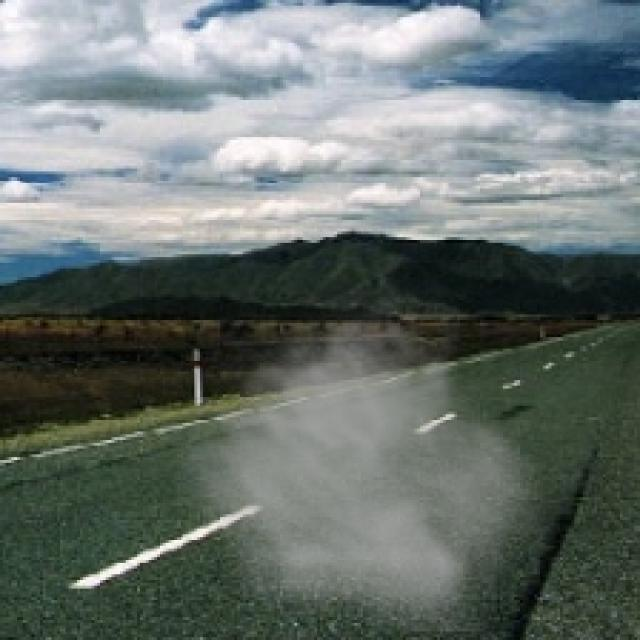smoke: (163, 280, 557, 631)
